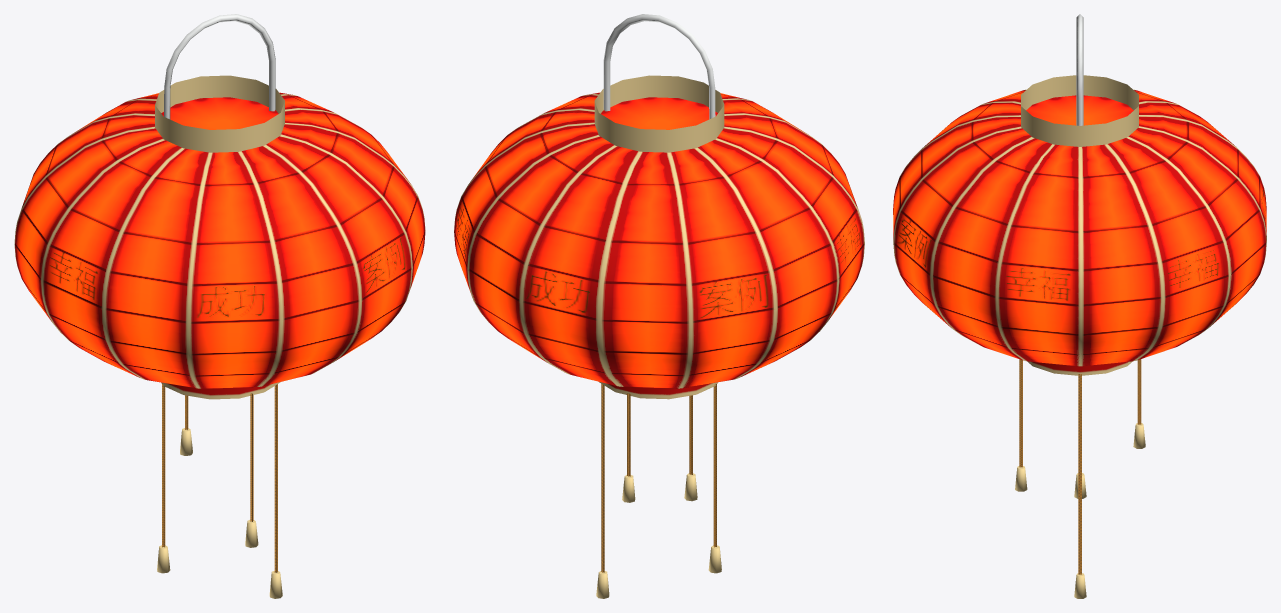
The model's file is ChineseLamp.fbx.
3 renders of one model, left to right at view 1: azimuth 30°, elevation 25°; view 2: azimuth 150°, elevation 25°; view 3: azimuth 270°, elevation 25°, orthographic. The views are drawn at different scales.
Visible parts, largest first — view 1: Chinese_Lamp; view 2: Chinese_Lamp; view 3: Chinese_Lamp.
Boxes of the visible parts, x1,y1,x2,y2 form: Chinese_Lamp: (14,14,425,598); Chinese_Lamp: (454,14,864,598); Chinese_Lamp: (893,14,1266,598).
Size of the model in its own units: 233 by 372 by 228.
